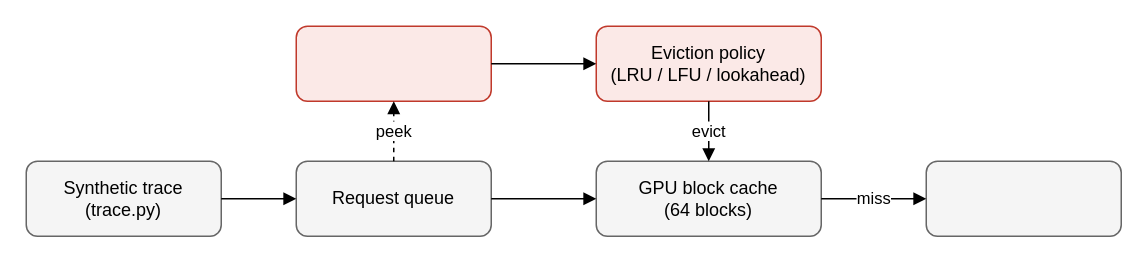
Image size: 1148x263. Some labels were removed from this diagram. The box of each missing label's shape, as (x1, y1, x2, y2) in pixels:
Host memory: (925, 160, 1121, 236)
Lookahead window (next W requests): (295, 25, 491, 101)
